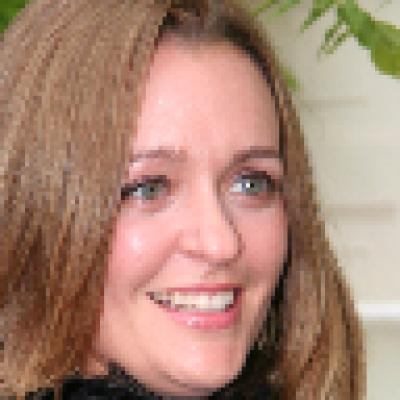happy: (80, 48, 288, 390)
